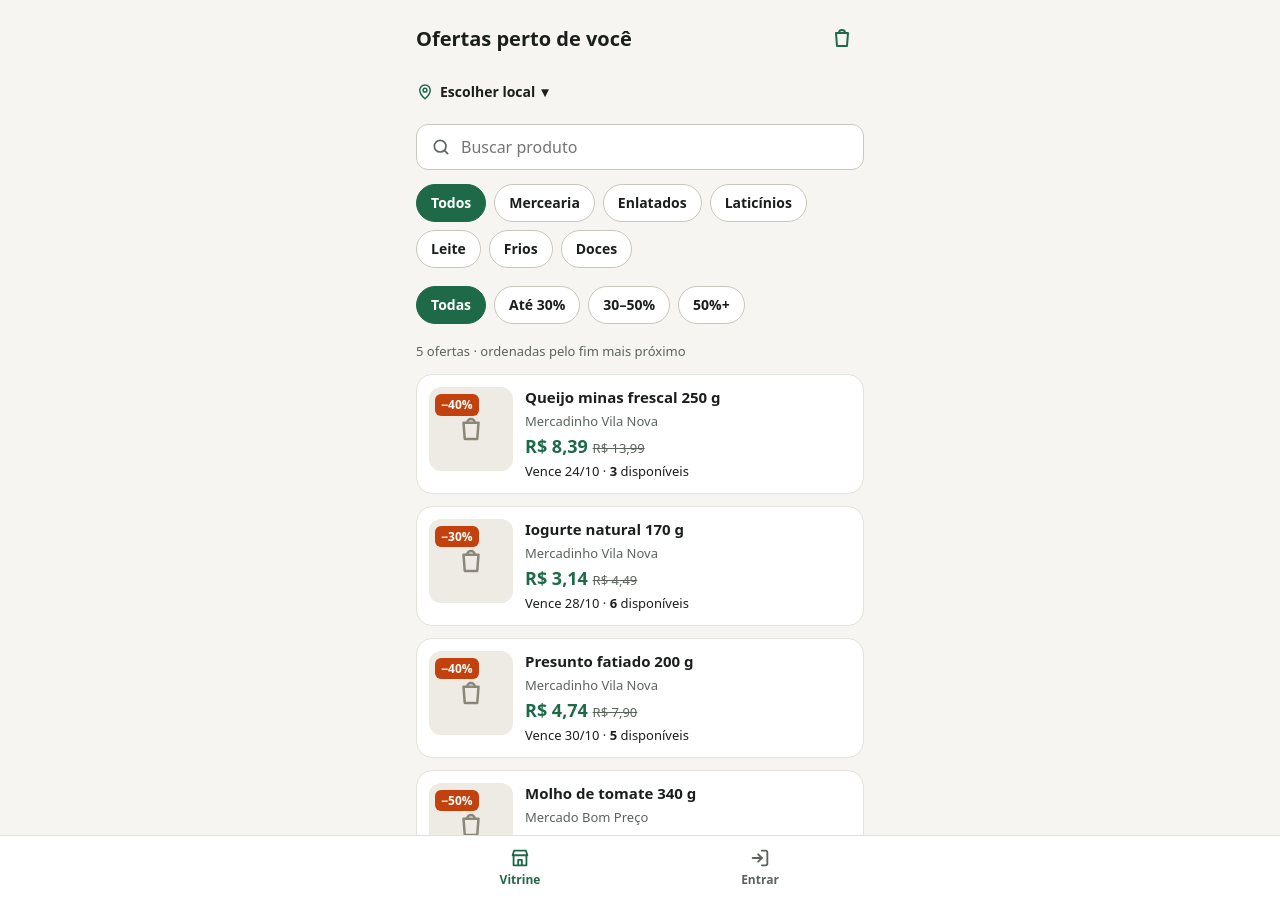
Scenario: C2 · Vitrine › busca pelo nome (sem acento, depois de uma pausa na digitação)
This screenshot has width=1280, height=900.
Expected: the text "5 ofertas · ordenadas pelo fim mais próximo" is shown, 416,342 -> 686,360
Type "requeijao" into the search field named "Buscar ofertas".
click(654, 147); type("requeijao")  # box 459,125 -> 849,169
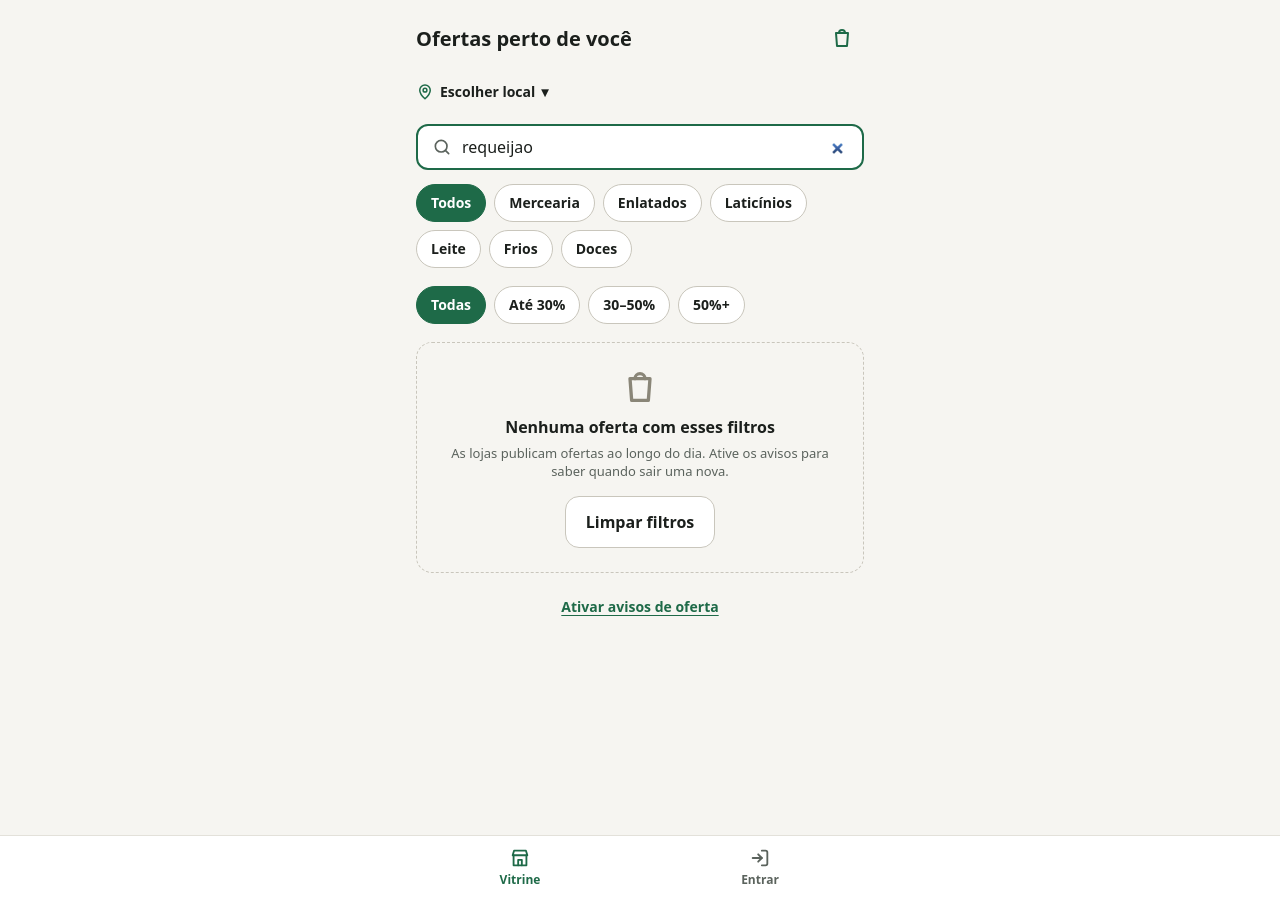
Expected: the text "Nenhuma oferta com esses filtros" is shown, 505,417 -> 775,438
Replace the text in the search field named "Buscar ofertas" with "queijo" at (654, 147), box 460,126 -> 848,168
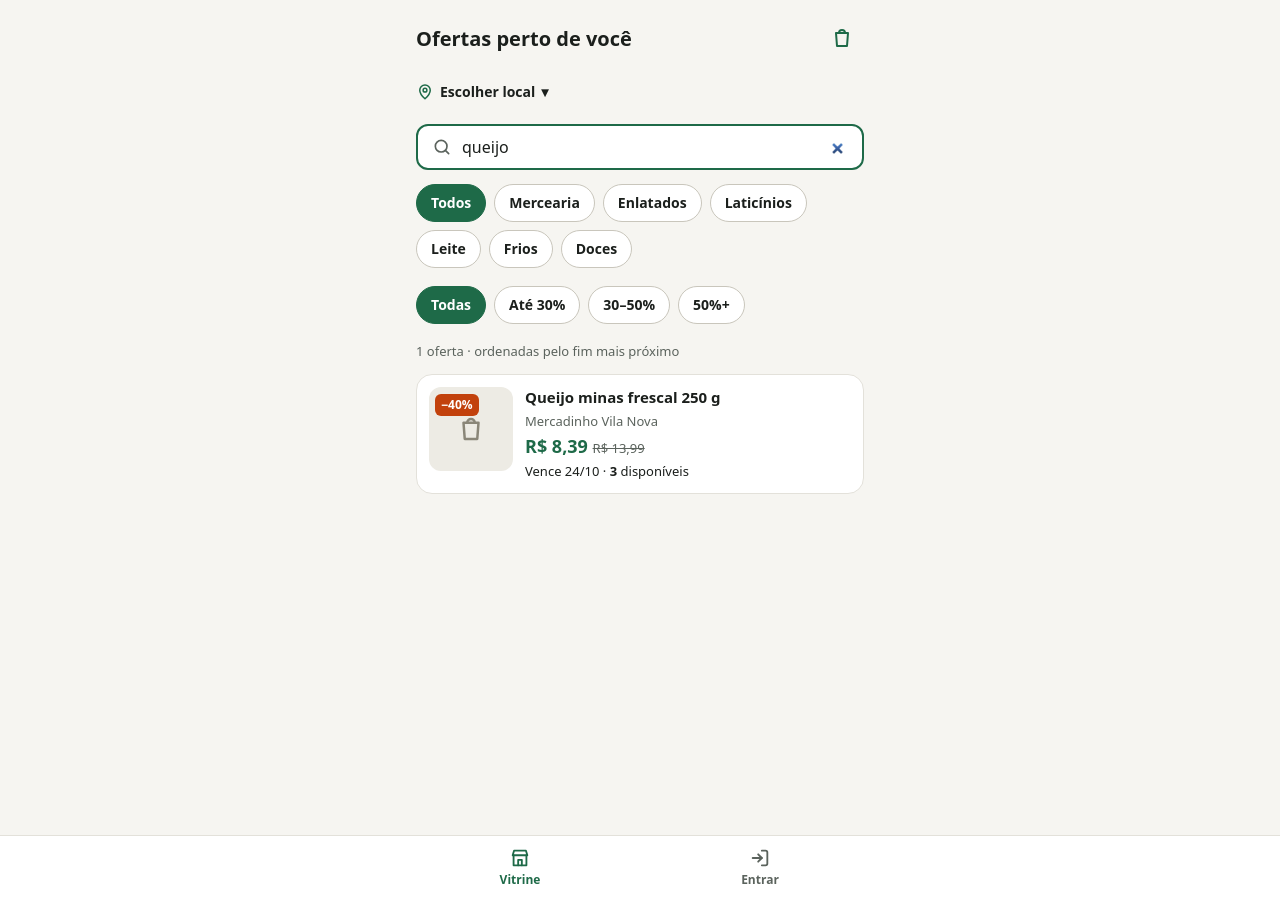
Expected: the text "1 oferta · ordenadas pelo fim mais próximo" is shown, 416,342 -> 679,360
